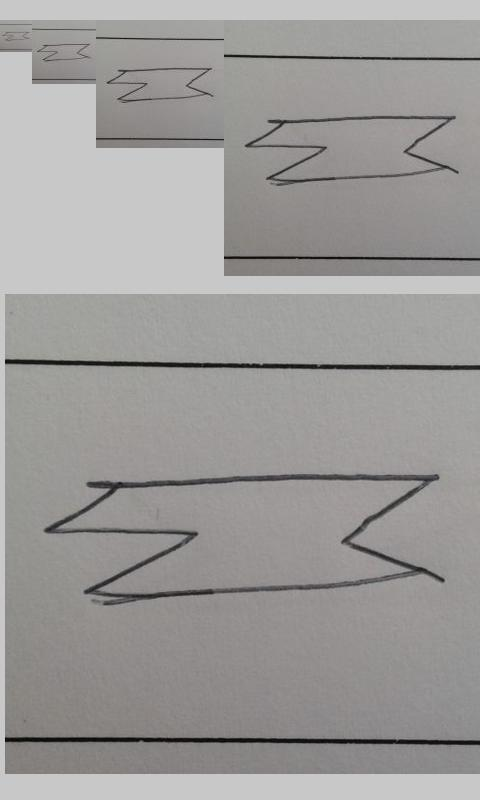edit_text: (45, 470, 439, 602), (247, 115, 455, 185), (105, 67, 211, 101), (37, 43, 90, 62), (2, 31, 30, 41)
